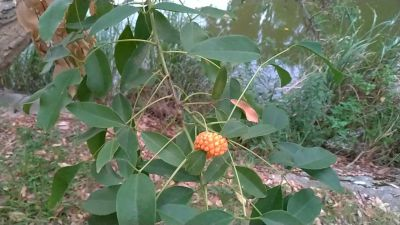eggs: (193, 127, 228, 158)
